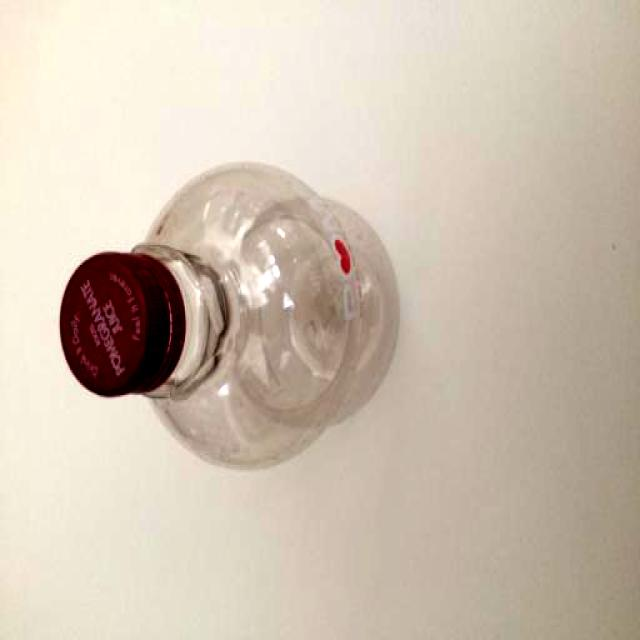Plastic: (48, 164, 422, 487)
